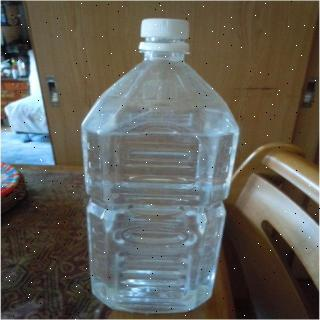Plastic-bottle: (75, 12, 243, 320)
